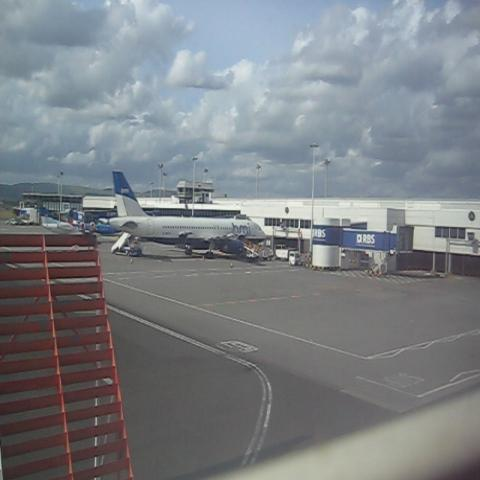car: (220, 238, 244, 254)
